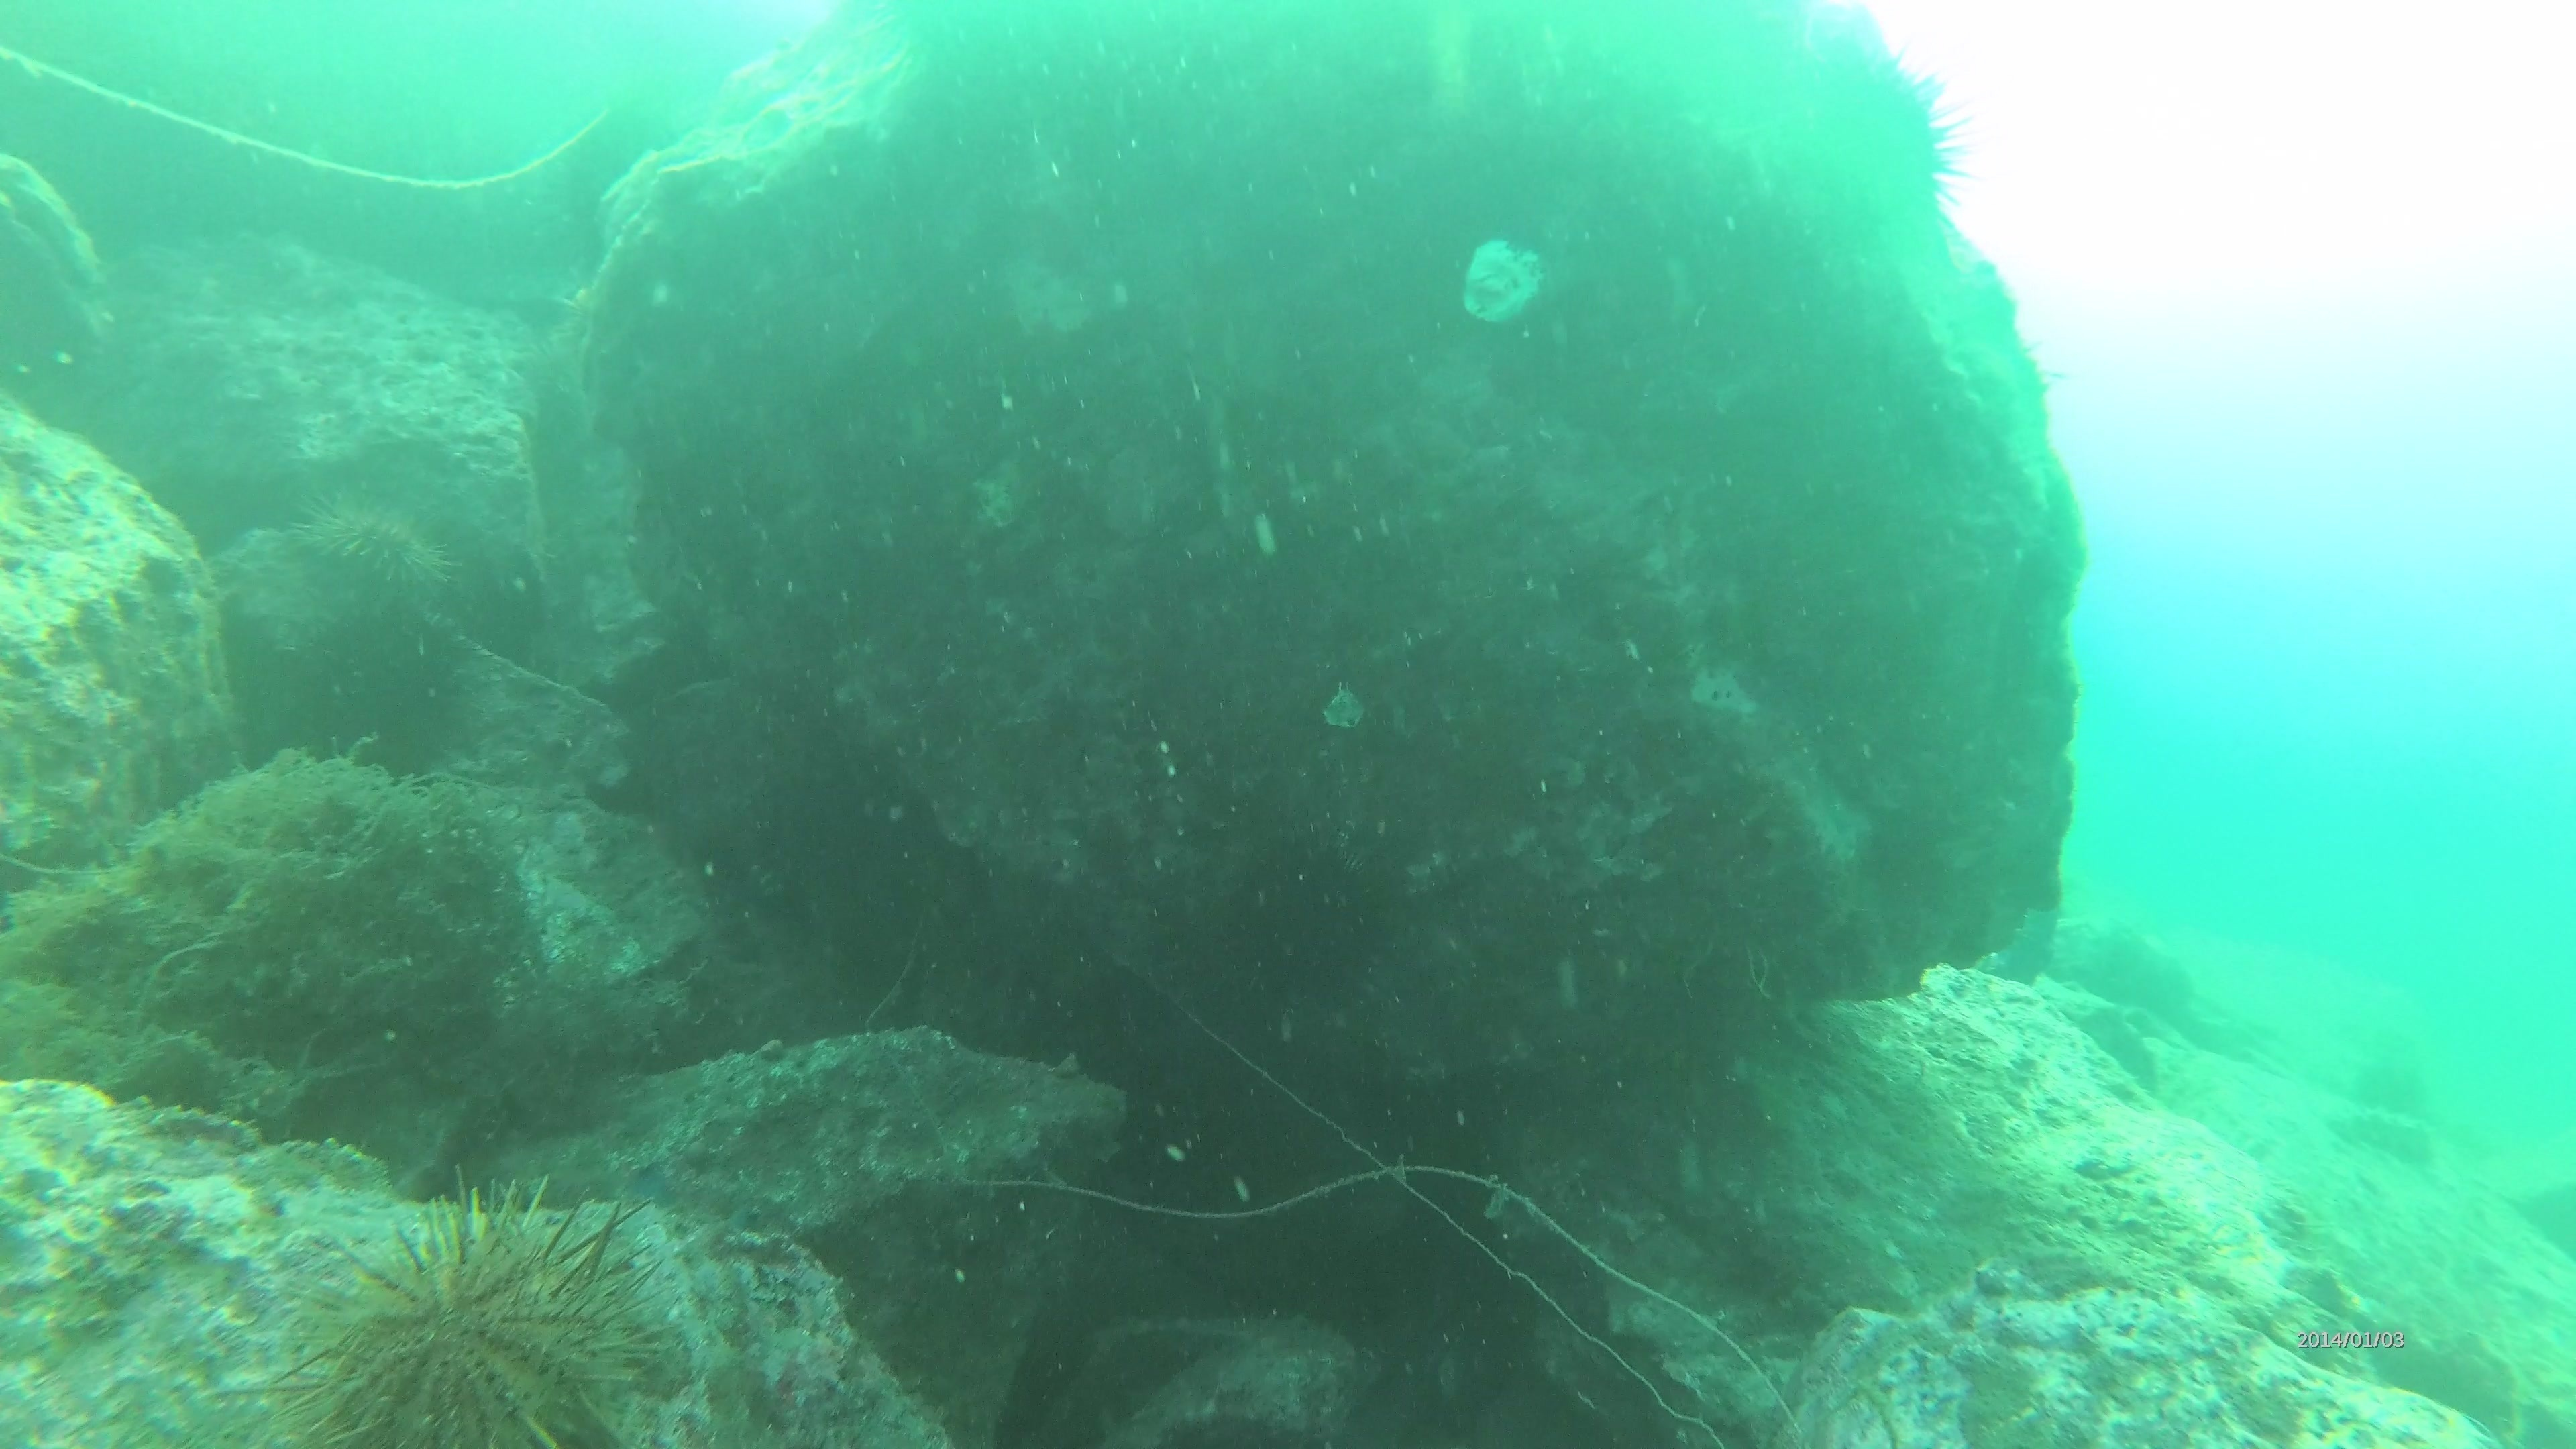echinus: (274, 1175, 674, 1445), (1757, 27, 1987, 255), (1219, 828, 1399, 1014), (283, 483, 464, 616)
